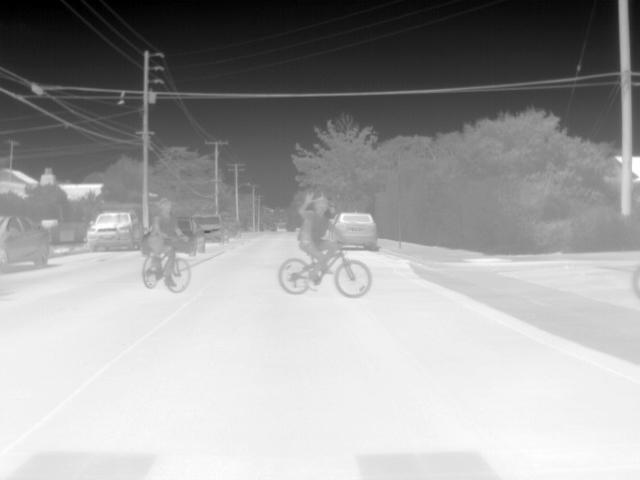car: (0, 214, 53, 271), (85, 209, 143, 252), (333, 209, 380, 251), (192, 213, 228, 246), (176, 215, 206, 252), (222, 216, 241, 237)
person: (298, 189, 342, 283), (148, 197, 179, 285)
